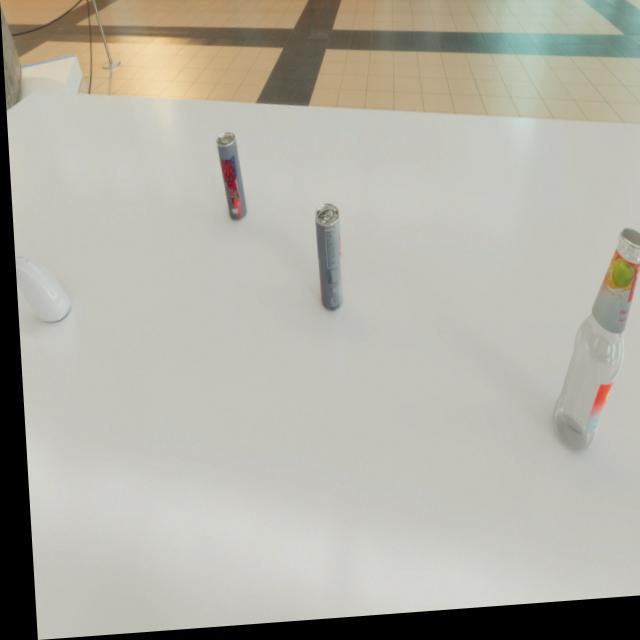Bottle: (538, 237, 640, 463)
Rita_zero_sugar: (312, 208, 341, 317), (214, 135, 245, 225)
Salt: (12, 252, 67, 324)
